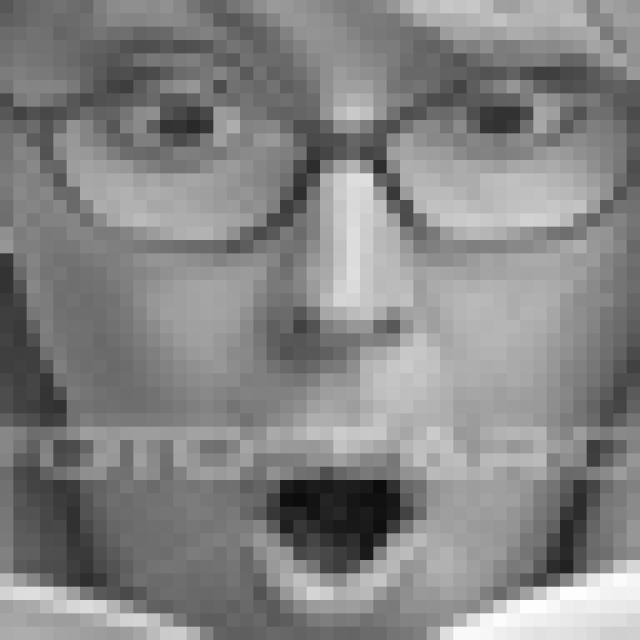surprise: (47, 24, 622, 614)
